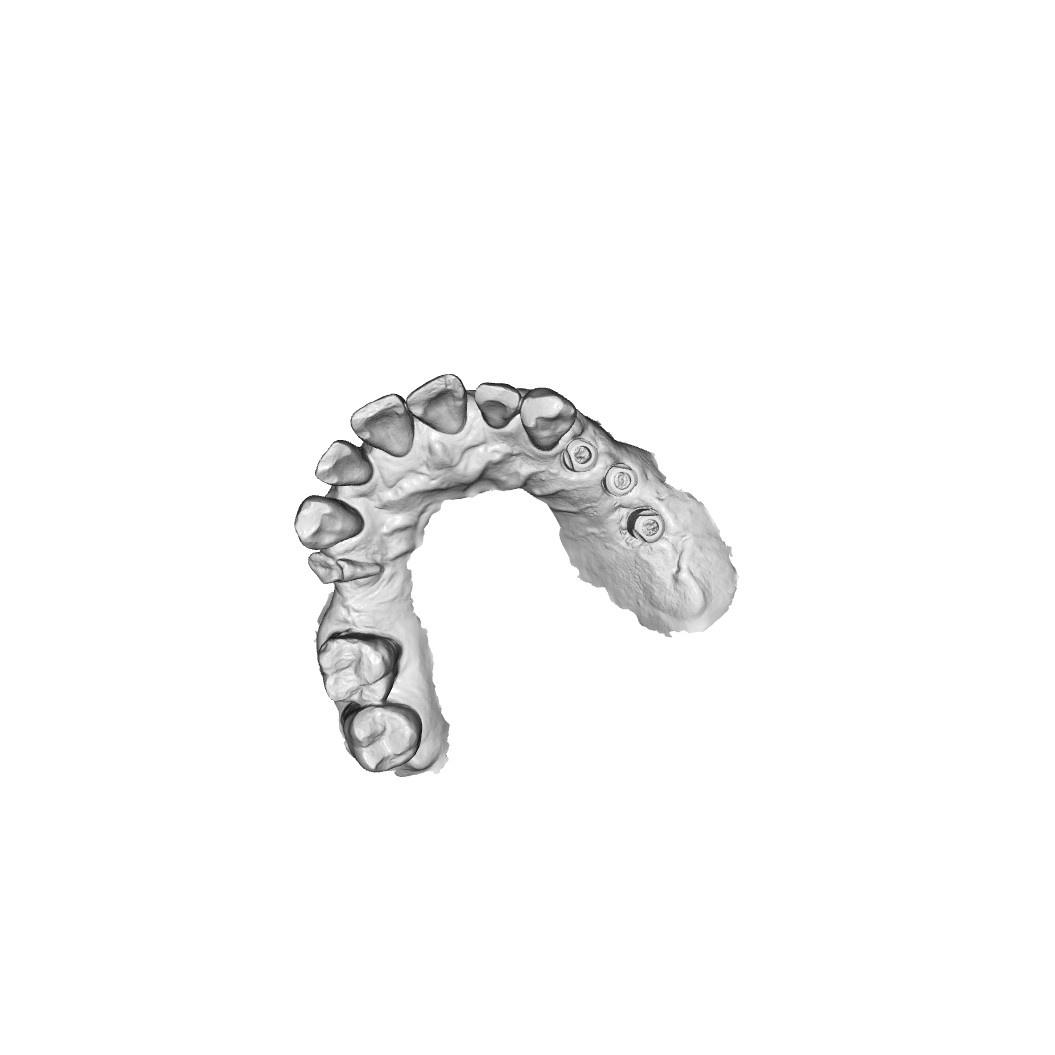canine: (294, 492, 365, 548), (521, 386, 577, 452)
implant: (626, 504, 662, 545), (561, 438, 601, 474), (604, 465, 639, 496)
incisor: (347, 391, 416, 459), (406, 369, 468, 436), (471, 379, 528, 434), (312, 439, 375, 488)
molar: (316, 630, 398, 702), (342, 703, 419, 775)
